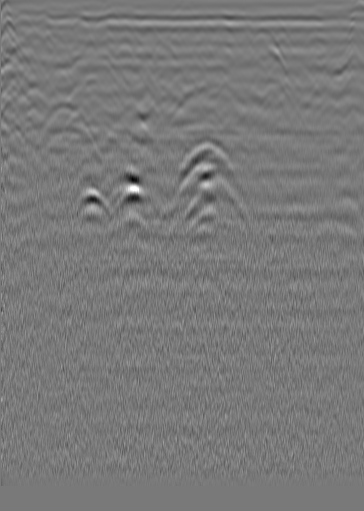가스: (63, 188, 112, 220)
상수: (307, 24, 327, 44)
오수: (24, 31, 44, 51)
우수: (185, 26, 205, 46)
